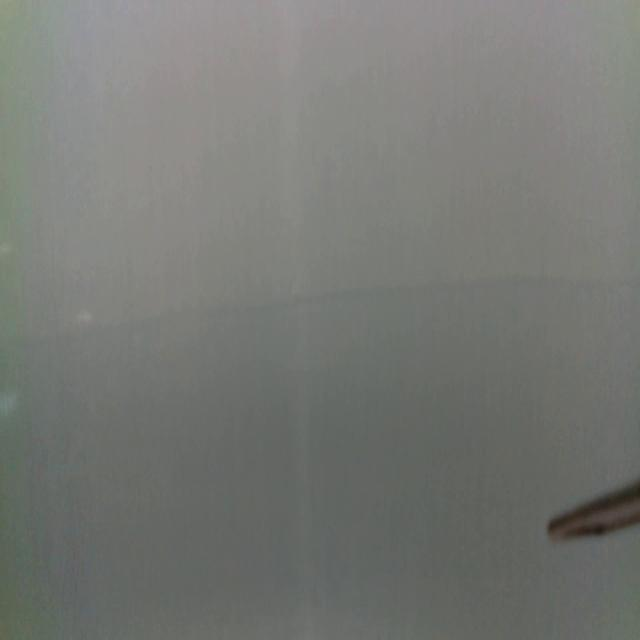color bleeding: (6, 265, 640, 354)
